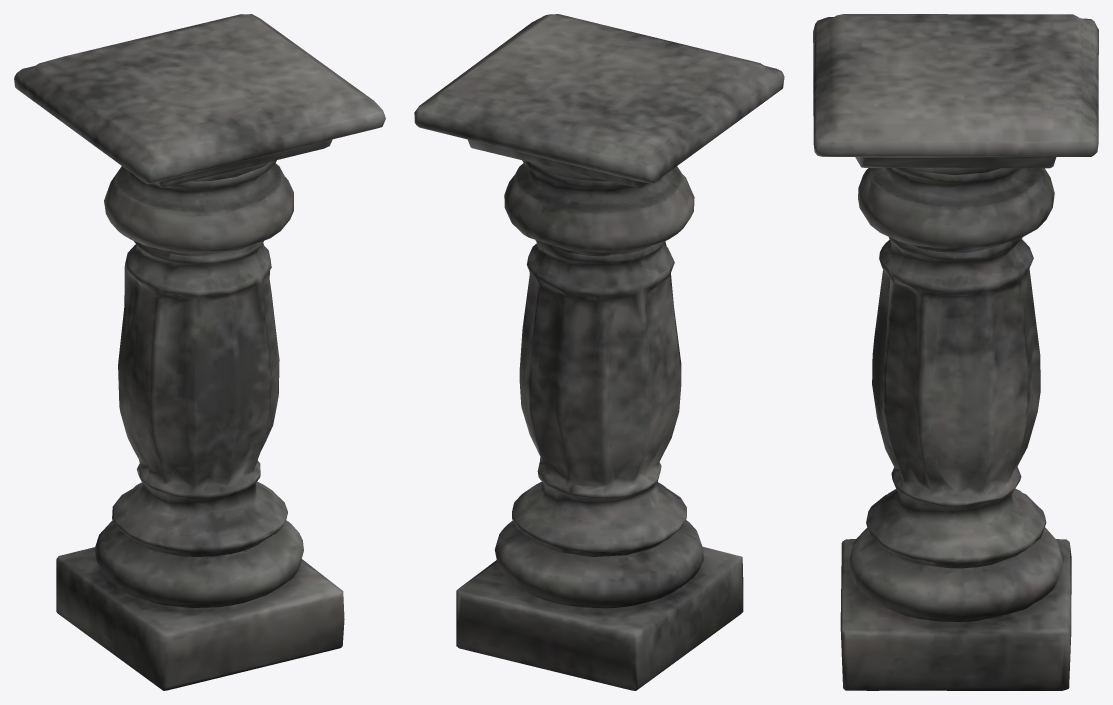
The model's file is ornate-granite-balustrade-v001.glb.
3 views of the same model, side by side, from view 1: azimuth 30°, elevation 25°; view 2: azimuth 150°, elevation 25°; view 3: azimuth 270°, elevation 25° (orthographic). The views are drawn at different scales.
Visible parts, largest first — view 1: ornate-granite-balustrade; view 2: ornate-granite-balustrade; view 3: ornate-granite-balustrade.
Boxes of the visible parts, x1,y1,x2,y2 form: ornate-granite-balustrade: [14, 14, 385, 690]; ornate-granite-balustrade: [414, 14, 784, 690]; ornate-granite-balustrade: [813, 14, 1098, 690].
Bounding box in the file's own units: 0.5009 × 1.08 × 0.4818.
Materials: 1 (1 with a texture image).
